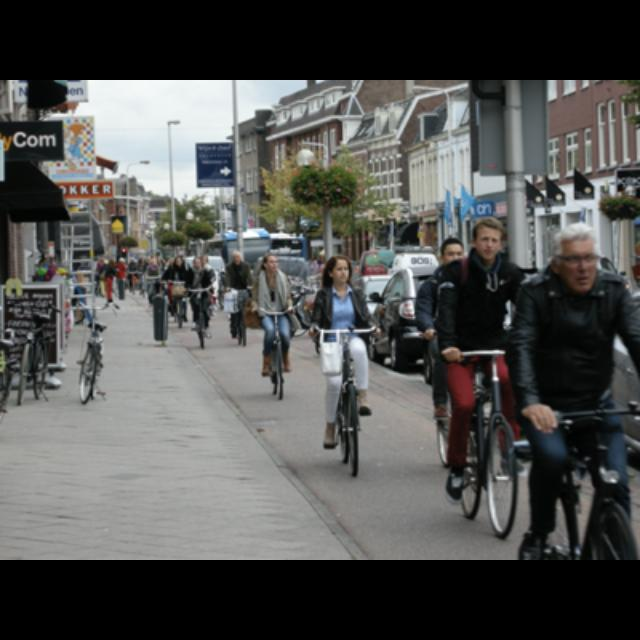Without Helmet: (470, 212, 508, 264), (320, 252, 360, 288), (257, 250, 283, 274), (227, 245, 245, 267)
